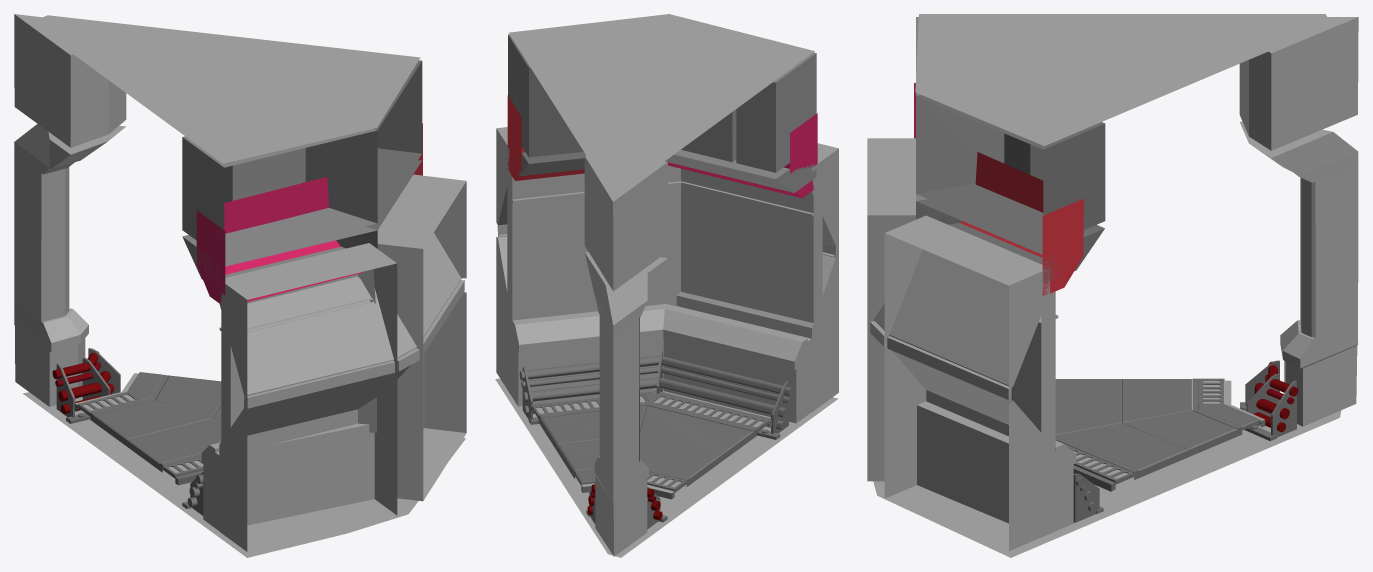
File: Corridor_Chunk_3_45Degree.fbx
The picture shows the model from 3 angles, left to right: view 1: azimuth 30°, elevation 25°; view 2: azimuth 150°, elevation 25°; view 3: azimuth 270°, elevation 25°; orthographic projection. The views are drawn at different scales.
Visible parts, largest first — view 1: Coridoor_chunk_1_MayaRemodel2:polySurface114, pPlane1, polySurface48, polySurface47, polySurface26, Cube.003, polySurface16, polySurface28, polySurface64, polySurface42, polySurface61, polySurface37 (+3 smaller); view 2: Cube.003, Coridoor_chunk_1_MayaRemodel2:polySurface114, pPlane1, polySurface47, polySurface29, polySurface48, polySurface16, polySurface28, polySurface26, polySurface42, polySurface49, polySurface61 (+14 smaller); view 3: Coridoor_chunk_1_MayaRemodel2:polySurface114, pPlane1, polySurface29, polySurface28, polySurface16, polySurface48, polySurface26, Cube.003, polySurface73, polySurface42, polySurface37, polySurface27 (+7 smaller).
Part boxes in pixels (x1,y1,x2,y2): Coridoor_chunk_1_MayaRemodel2:polySurface114: (14, 14, 466, 551); pPlane1: (30, 15, 420, 163); polySurface48: (182, 129, 377, 260); polySurface47: (201, 423, 374, 530); polySurface26: (196, 123, 422, 304); Cube.003: (219, 269, 424, 471); polySurface16: (23, 392, 465, 557); polySurface28: (373, 60, 422, 222); polySurface64: (247, 278, 464, 408); polySurface42: (126, 418, 221, 470); polySurface61: (93, 400, 211, 445); polySurface37: (155, 375, 221, 418); Cube.003: (507, 165, 822, 345); Coridoor_chunk_1_MayaRemodel2:polySurface114: (496, 127, 838, 556); pPlane1: (509, 14, 814, 187); polySurface47: (663, 304, 811, 423); polySurface29: (507, 304, 665, 406); polySurface48: (681, 52, 816, 172); polySurface16: (495, 378, 838, 557); polySurface28: (508, 34, 583, 157); polySurface26: (507, 95, 817, 198); polySurface42: (640, 405, 753, 461); polySurface49: (665, 150, 816, 192); polySurface61: (640, 435, 721, 484); Coridoor_chunk_1_MayaRemodel2:polySurface114: (867, 17, 1358, 551); pPlane1: (915, 14, 1331, 145); polySurface29: (917, 401, 1076, 537); polySurface28: (916, 95, 1105, 247); polySurface16: (873, 410, 1341, 557); polySurface48: (916, 17, 1004, 193); polySurface26: (914, 83, 1083, 296); Cube.003: (1013, 280, 1058, 460); polySurface73: (1055, 423, 1188, 477); polySurface42: (1055, 379, 1121, 434); polySurface37: (1122, 410, 1237, 456); polySurface27: (916, 199, 1104, 283).
Size of the model in its own units: 582 by 729 by 819.
